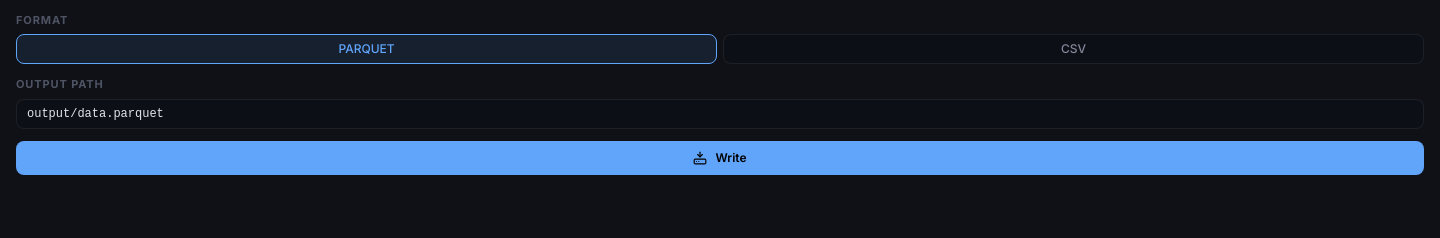
Test case: SinkEditor › failed write shows error message
Click the button "Write": click(720, 158) [16, 140, 1424, 174]
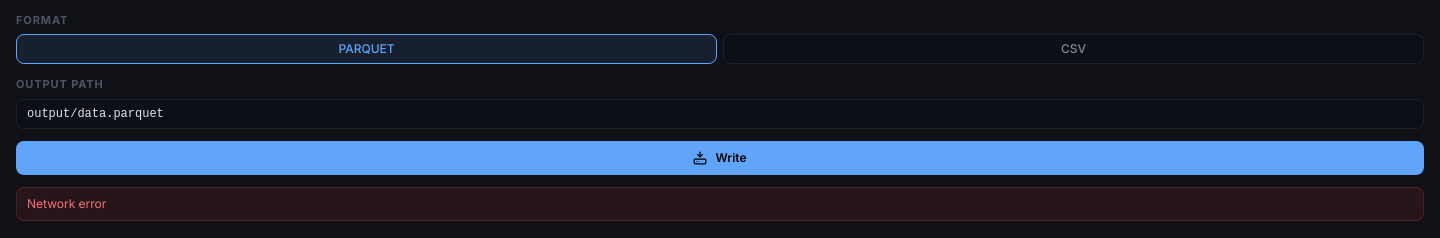
expect the text "Network error" is shown: met, box [16, 186, 1424, 220]
